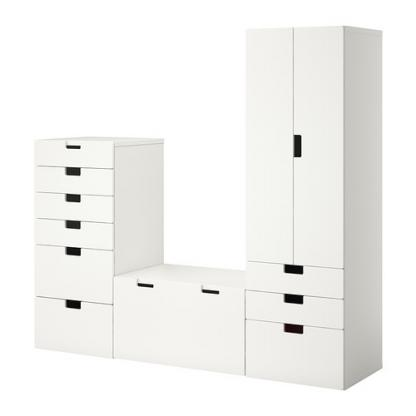Cabinet: (242, 20, 386, 393), (30, 132, 167, 369), (112, 263, 249, 376)
